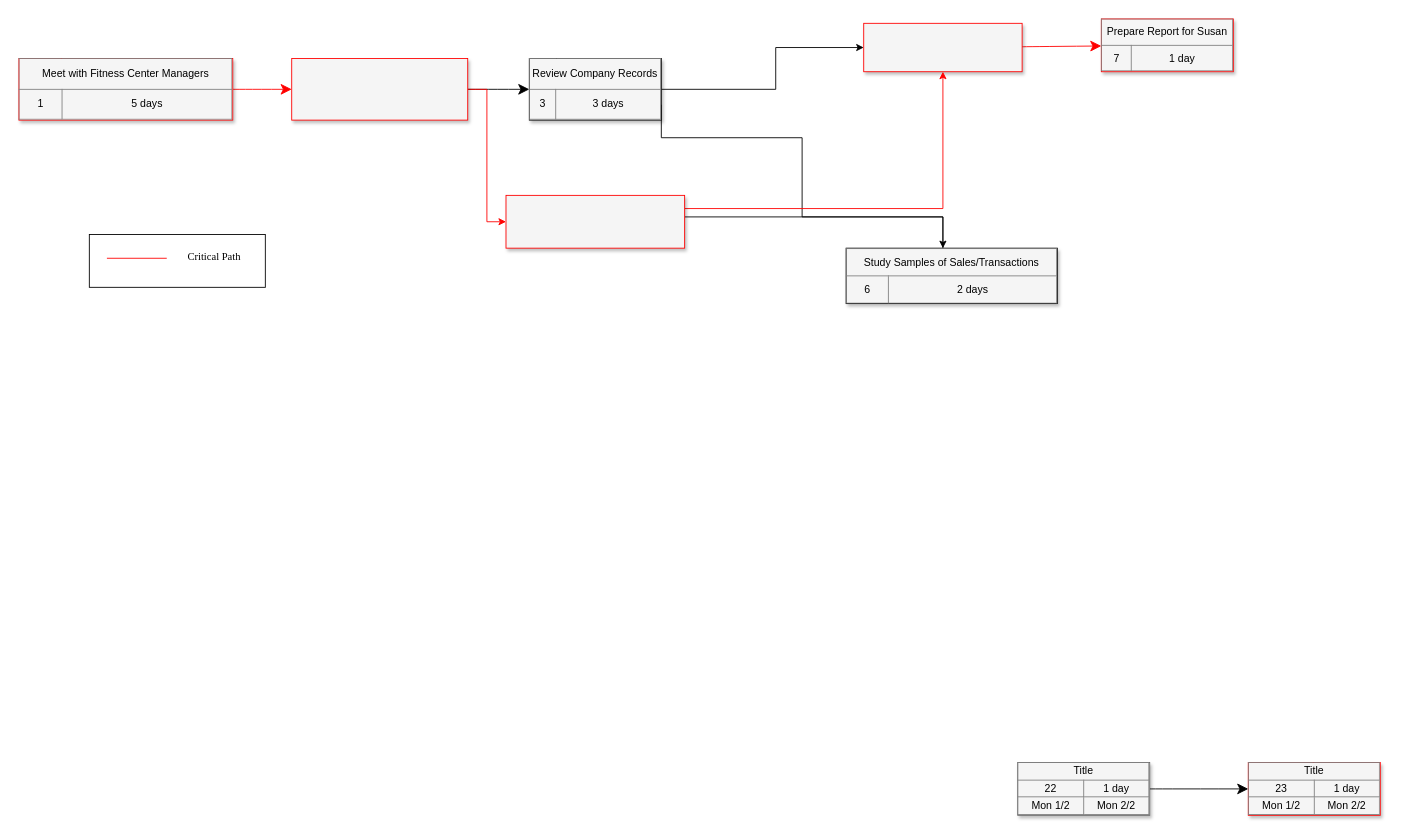
This 1401x837 diagram has some shape labels left out. The centre of each missing label's shape, as x and y in pixels:
"Analyze BumbleBee Software 5 5 days" goes at point (943, 48).
"Conduct Series of Interviews 2 5 days" goes at point (380, 90).
"Observe Business Operations 4 8 days" goes at point (596, 222).
